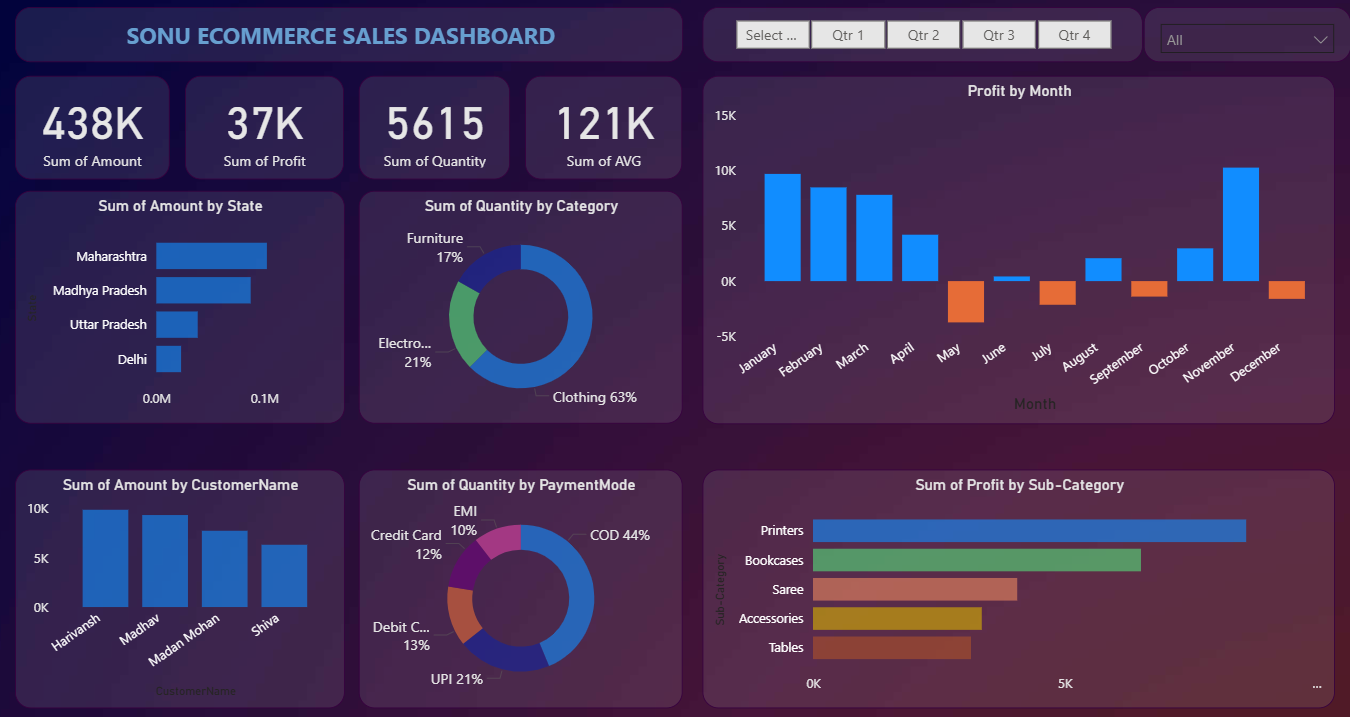

The dashboard page shown, as its layout file describes it:
{"tool":"powerbi","page":{"name":"Page 1","canvas":[1280,720],"ordinal":0},"visuals":[{"type":"textbox","box":[23.3,9.6,628.5,52.1],"z":0},{"type":"columnChart","title":"Profit by Month","fields":{"Category":["Orders.Order Date.Variation.Date Hierarchy.Month"],"Y":["Details.Profit"]},"box":[671,74.1,595.5,328],"z":1000},{"type":"barChart","fields":{"Category":["Details.Sub-Category"],"Y":["Details.Profit"]},"box":[671,444.6,595.5,225],"z":2000},{"type":"donutChart","fields":{"Category":["Details.Category"],"Y":["Details.Quantity"]},"box":[347.2,182.5,304.6,219.6],"z":3000},{"type":"donutChart","fields":{"Y":["Details.Quantity"],"Category":["Details.PaymentMode"]},"box":[347.2,444.6,304.6,225],"z":4000},{"type":"card","fields":{"Values":["Details.Amount"]},"box":[23.3,74.1,145.5,97.4],"z":5000},{"type":"card","fields":{"Values":["Details.Quantity"]},"box":[347.2,74.1,142.7,97.4],"z":6000},{"type":"card","fields":{"Values":["Details.Profit"]},"box":[183.9,74.1,149.6,97.4],"z":7000},{"type":"card","fields":{"Values":["Details.AVG"]},"box":[503.6,74.1,148.2,97.4],"z":8000},{"type":"barChart","fields":{"Y":["Details.Amount"],"Category":["Orders.State"]},"box":[23.3,182.5,310.1,219.6],"z":9000},{"type":"columnChart","fields":{"Category":["Orders.CustomerName"],"Y":["Details.Amount"]},"box":[23.3,444.6,310.1,225],"z":10000},{"type":"slicer","fields":{"Values":["Orders.Order Date.Variation.Date Hierarchy.Quarter"]},"box":[671,9.6,414.4,52.1],"z":11000},{"type":"slicer","fields":{"Values":["Orders.State"]},"box":[1085.4,9.6,194.9,52.1],"z":12000}]}

Visuals, with their boxes on the page's 1280x720 design canvas (x1, y1, x2, y2). These are canvas units, not pixel positions in the 1350x717 screenshot, which may show the page scaled, cropped or inside an application window:
textbox: <region>23, 10, 652, 62</region>
"Profit by Month" columnChart: <region>671, 74, 1266, 402</region>
barChart - Details.Sub-Category x Details.Profit: <region>671, 445, 1266, 670</region>
donutChart - Details.Category x Details.Quantity: <region>347, 182, 652, 402</region>
donutChart - Details.Quantity x Details.PaymentMode: <region>347, 445, 652, 670</region>
card - Details.Amount: <region>23, 74, 169, 172</region>
card - Details.Quantity: <region>347, 74, 490, 172</region>
card - Details.Profit: <region>184, 74, 334, 172</region>
card - Details.AVG: <region>504, 74, 652, 172</region>
barChart - Details.Amount x Orders.State: <region>23, 182, 333, 402</region>
columnChart - Orders.CustomerName x Details.Amount: <region>23, 445, 333, 670</region>
slicer - Orders.Order Date.Variation.Date Hierarchy.Quarter: <region>671, 10, 1085, 62</region>
slicer - Orders.State: <region>1085, 10, 1280, 62</region>
